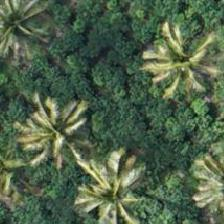coconut_tree: (12, 82, 102, 172), (132, 19, 222, 109), (62, 154, 152, 223), (0, 0, 58, 68), (177, 139, 223, 223)
